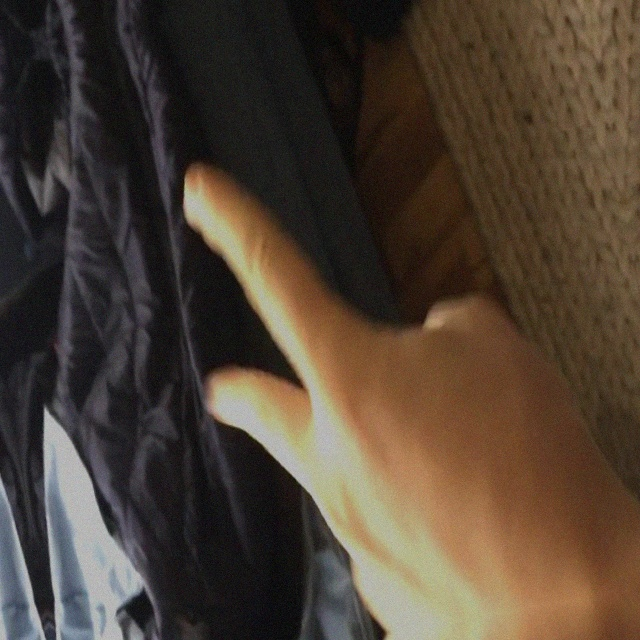Scissors: (165, 99, 625, 640)
